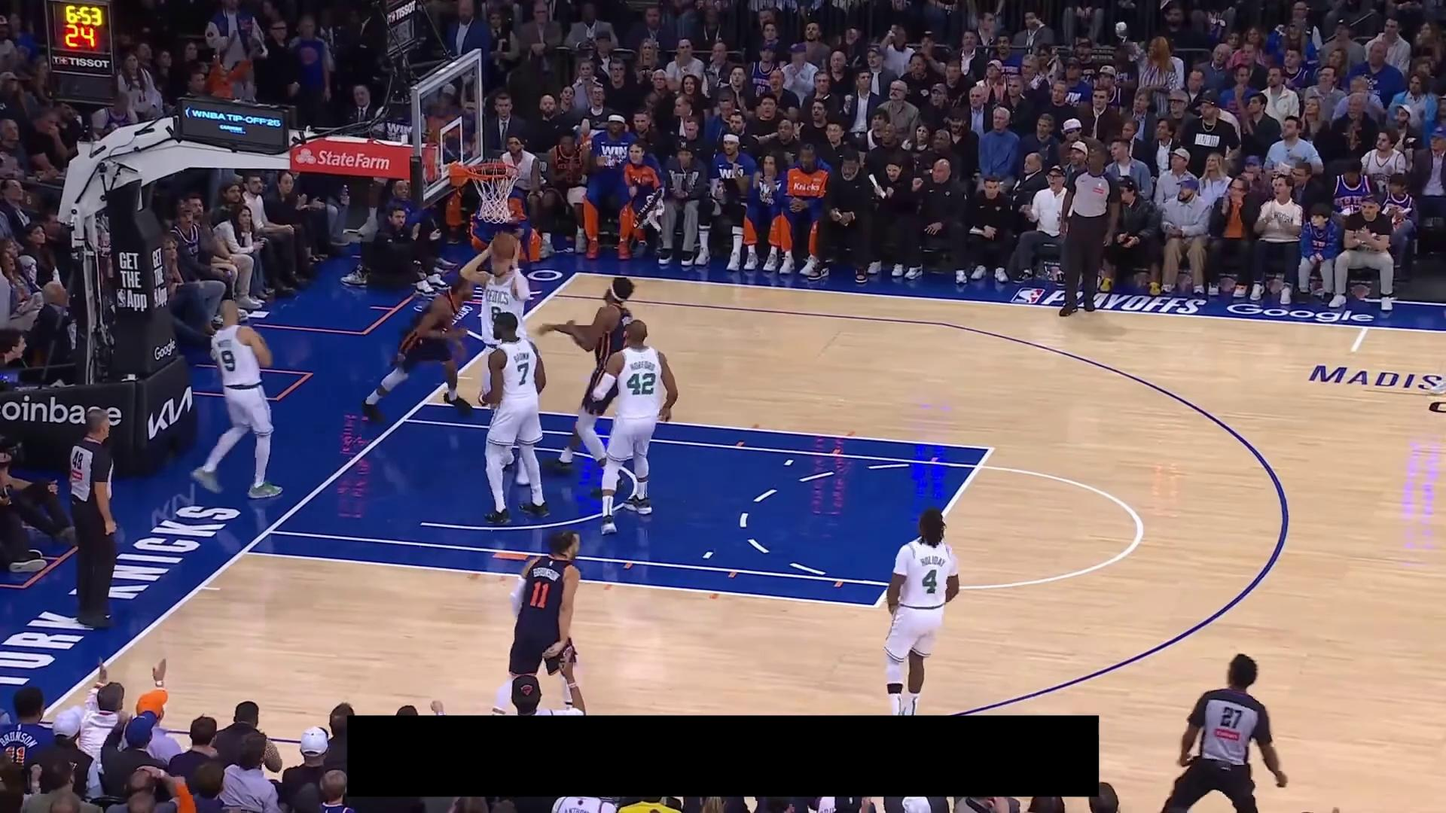ball: (492, 233, 517, 259)
number: (627, 372, 656, 396), (529, 580, 550, 611), (922, 568, 938, 595), (221, 349, 236, 373), (517, 362, 529, 386), (490, 305, 501, 322)
player: (536, 276, 639, 500), (189, 297, 285, 501), (590, 316, 678, 537), (495, 526, 589, 715), (880, 506, 962, 716), (360, 277, 477, 424), (478, 312, 550, 525)
player-in-possession: (459, 236, 531, 485)
referee: (1152, 653, 1289, 813), (66, 407, 122, 629), (1057, 144, 1121, 317)
rim: (465, 161, 519, 180)
